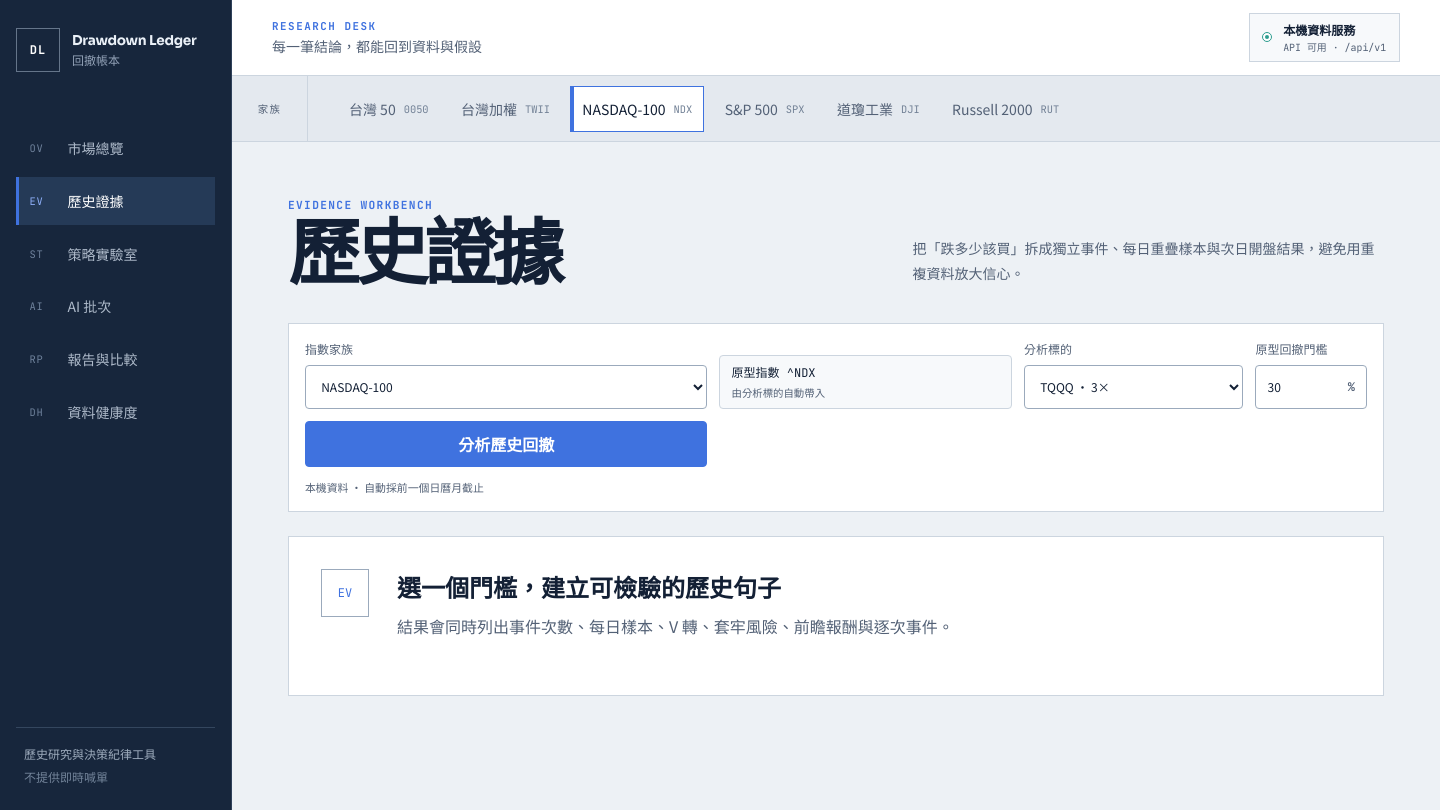
Test case: historical evidence workbench › shows the API detail when trusted market data is missing
This screenshot has width=1440, height=810.
Click the button "分析歷史回撤" at (506, 444), box [305,420,707,467]
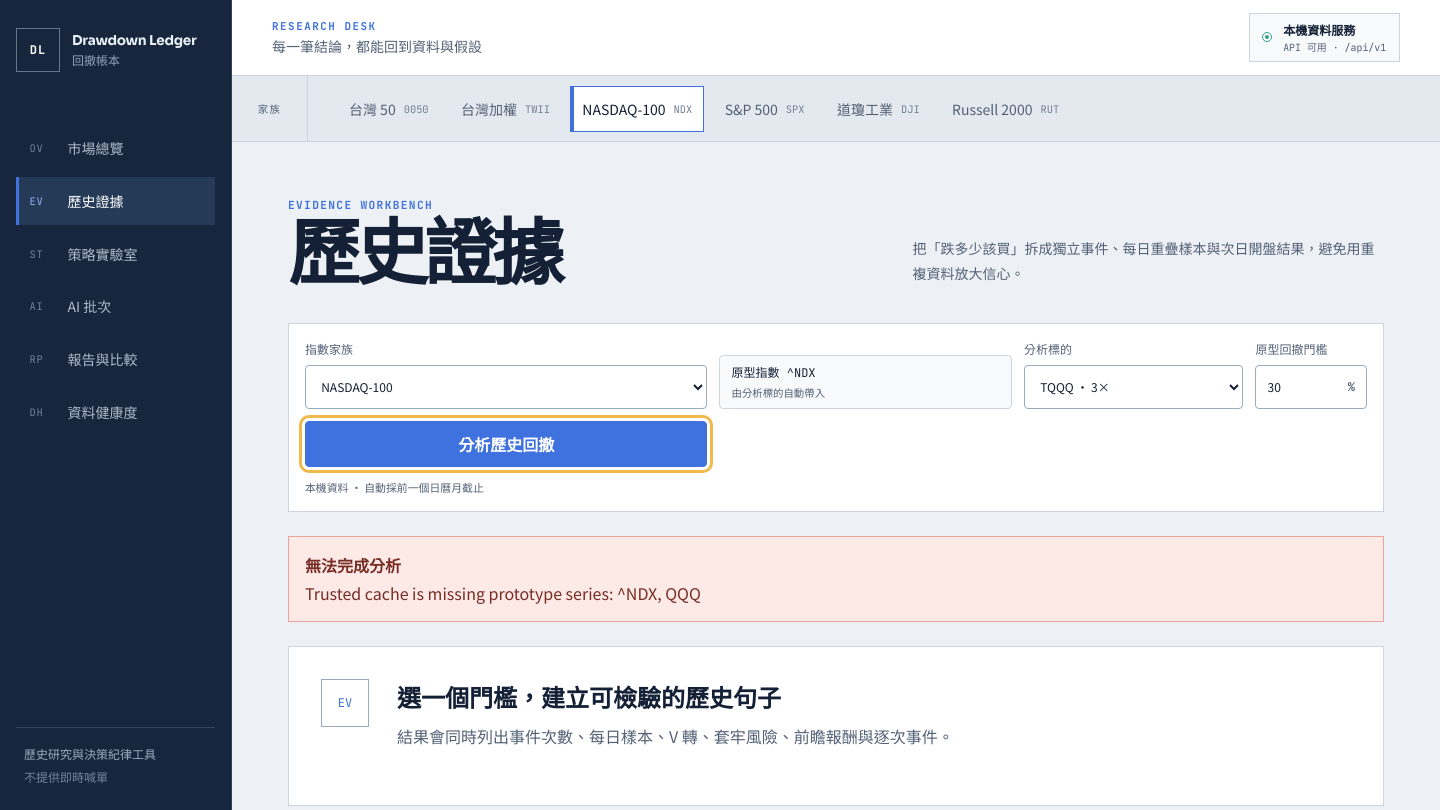
Check: the text "Trusted cache is missing prototype series: ^NDX, QQQ" is shown, box [305,581,701,605]
